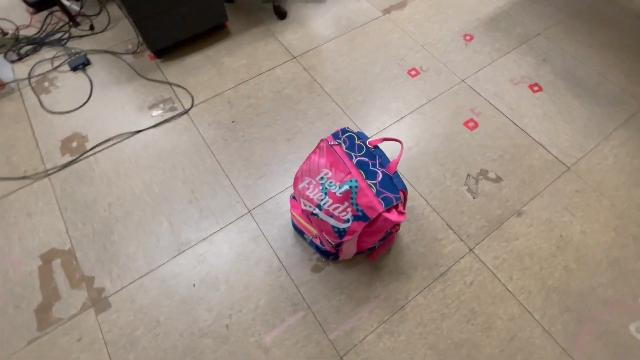Backpack: (284, 120, 412, 268)
